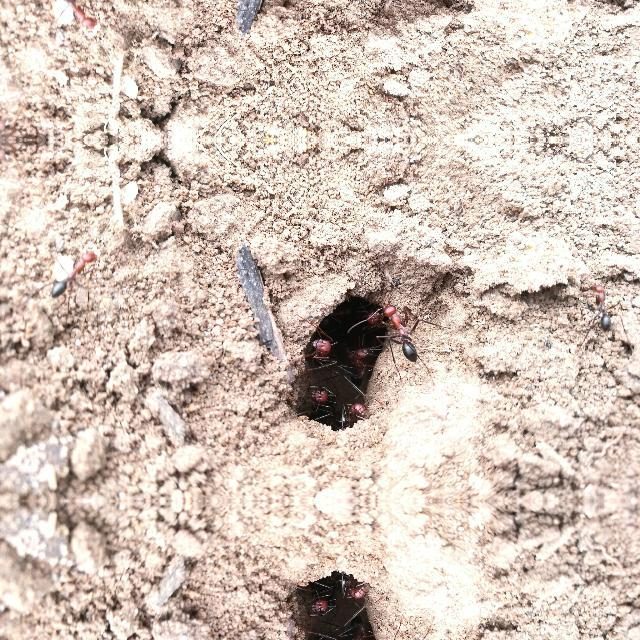Cataglyphis: (369, 298, 435, 364), (39, 246, 109, 300), (292, 314, 340, 374), (578, 280, 626, 334), (39, 0, 109, 32), (342, 336, 378, 389), (300, 379, 342, 419), (300, 581, 342, 621), (339, 396, 375, 432), (339, 568, 375, 604), (342, 610, 378, 640), (292, 624, 338, 640)
